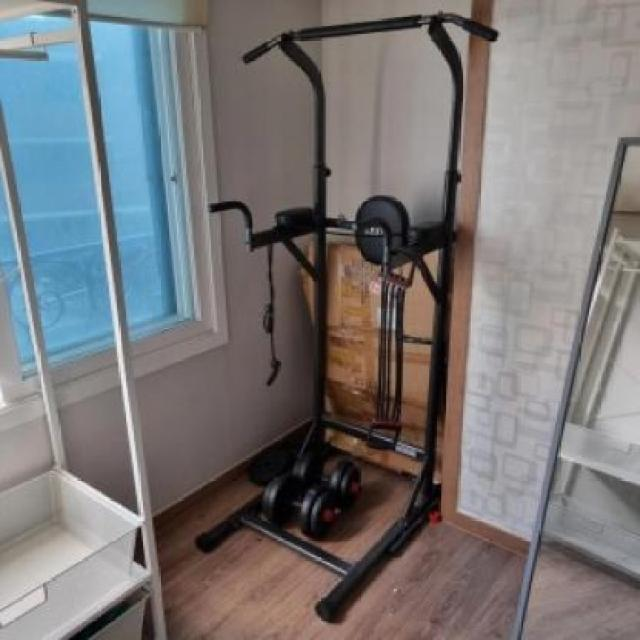chinning dipping: (207, 12, 498, 628)
